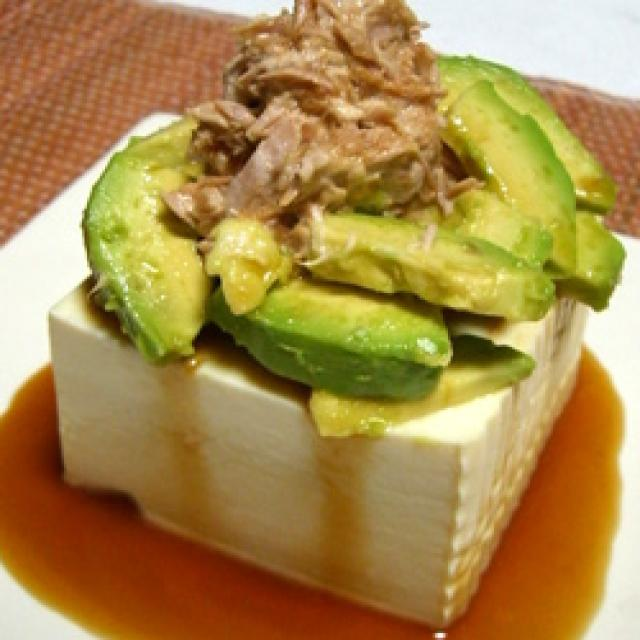豆腐料理: (41, 0, 619, 640)
